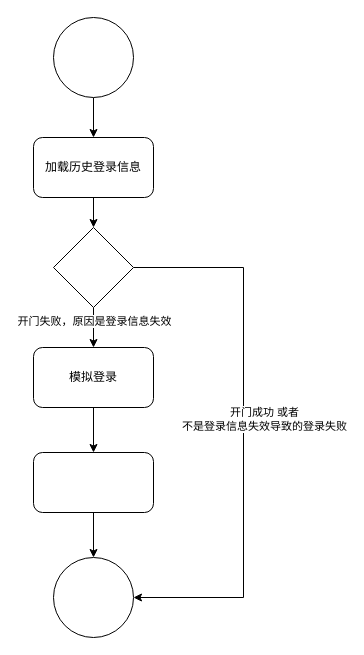
The diagram is 364 pixels wide and 655 high, and some of its shapes have lost their labels. Each missing label, with the centre of its shape:
"再次尝试开门" goes at (x=93, y=482).
"尝试开门" goes at (x=93, y=267).
